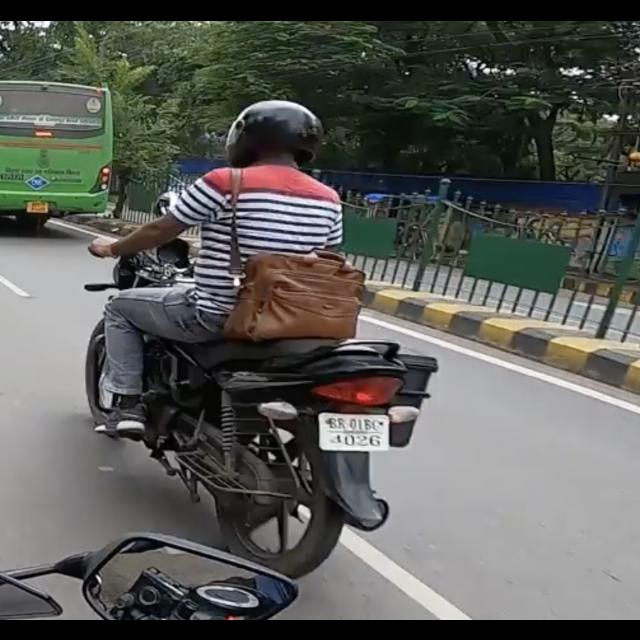with helmet: (224, 98, 324, 164)
